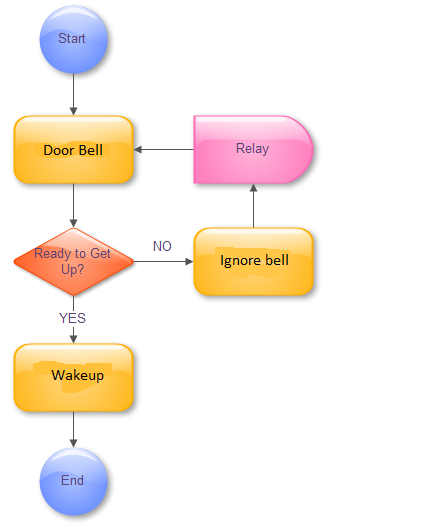arrow: (246, 181, 261, 231), (132, 144, 194, 156), (67, 180, 80, 229), (133, 257, 194, 267), (69, 295, 81, 343), (67, 70, 78, 116), (67, 410, 78, 449)
connection: (38, 2, 113, 77), (38, 445, 112, 518)
decision: (10, 225, 134, 300)
process: (12, 113, 138, 188), (11, 340, 136, 415), (191, 113, 316, 188), (192, 226, 318, 298)
text: (32, 246, 113, 279), (216, 252, 291, 270), (48, 365, 106, 386), (41, 142, 104, 157), (234, 140, 270, 158), (57, 308, 86, 324), (57, 31, 87, 46), (59, 472, 86, 488), (150, 239, 174, 254)
